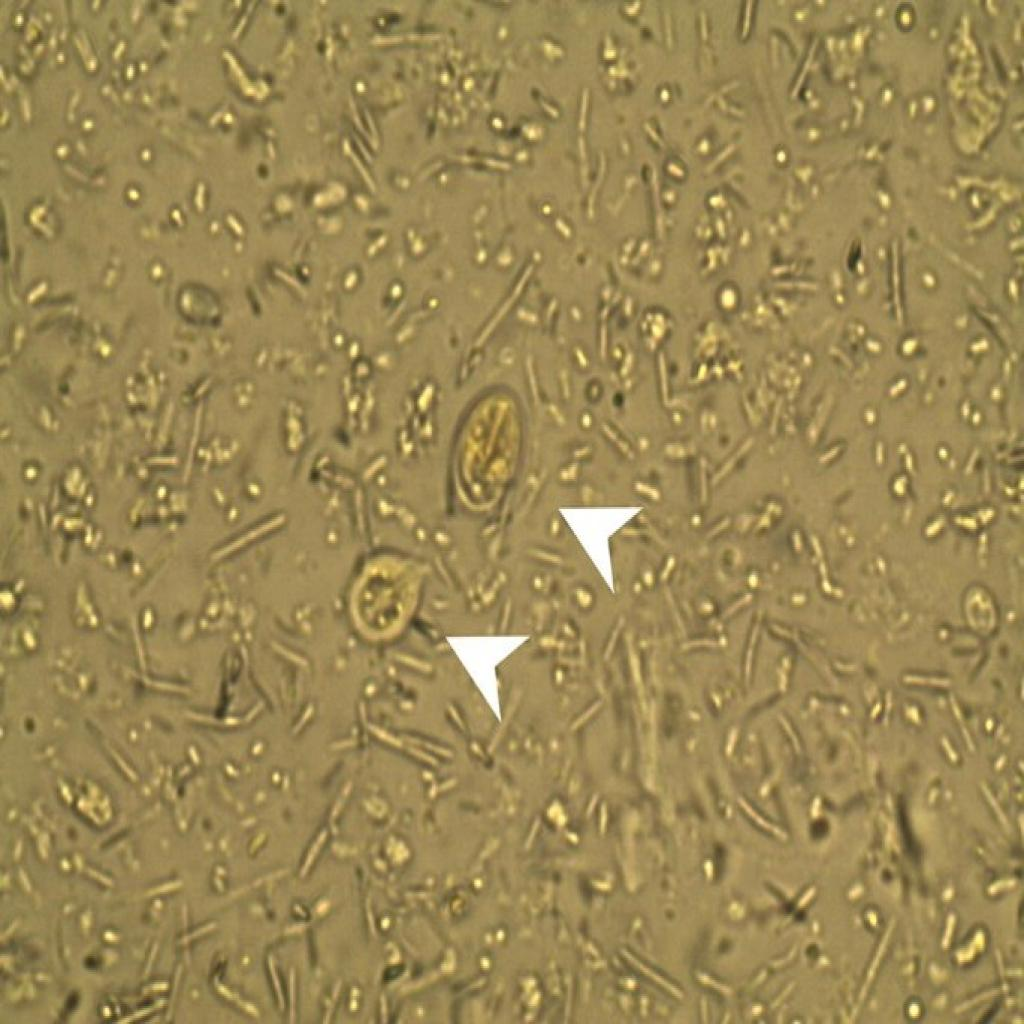Giardia: (449, 375, 532, 525), (338, 543, 432, 651)
